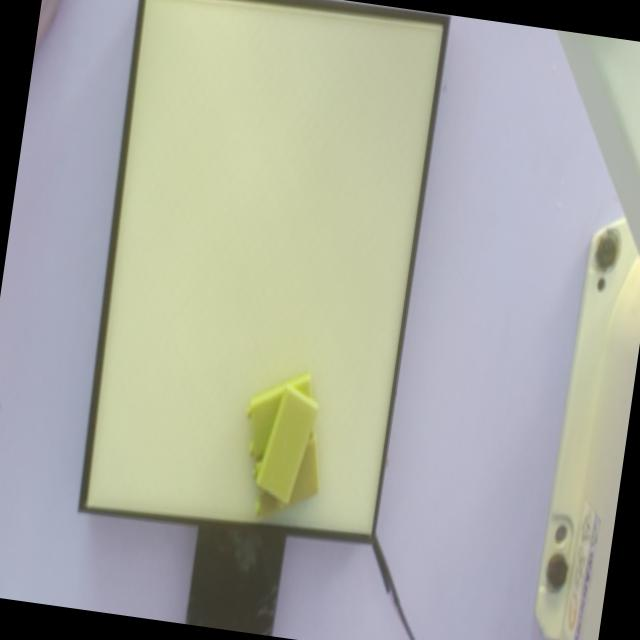bateria: (255, 385, 318, 511)
mesa: (78, 0, 451, 544)
